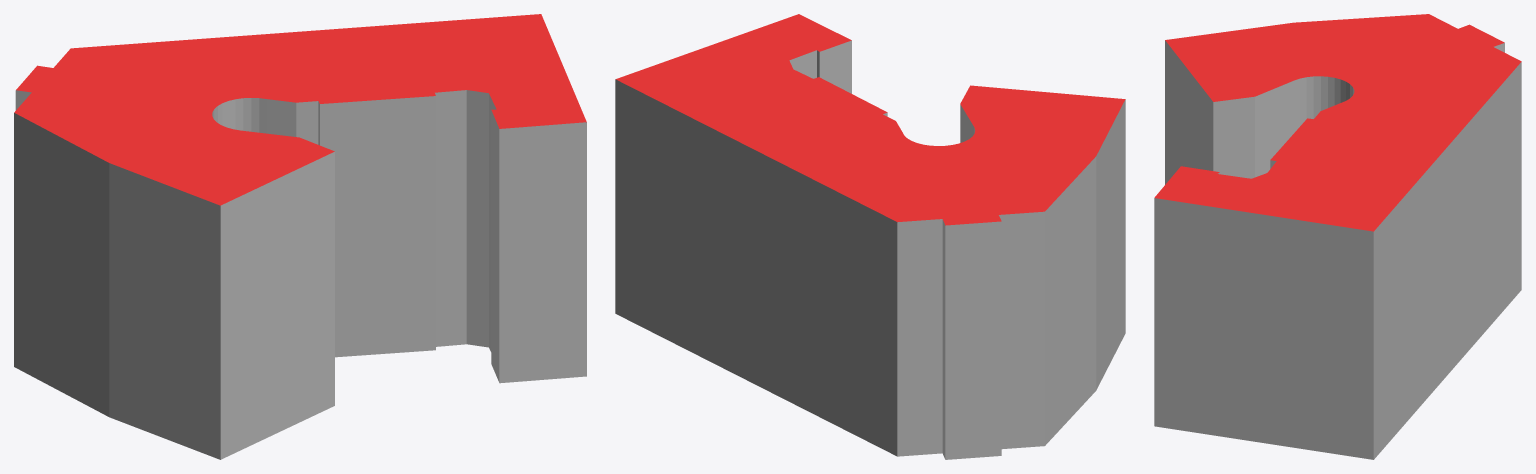
File: DEBE3D04YY500009Qd.dae
The picture shows the model from 3 angles, left to right: view 1: azimuth 30°, elevation 25°; view 2: azimuth 150°, elevation 25°; view 3: azimuth 270°, elevation 25°; orthographic projection. The views are drawn at different scales.
Bounding box in the file's own units: 43.78 × 31.26 × 21.43.
